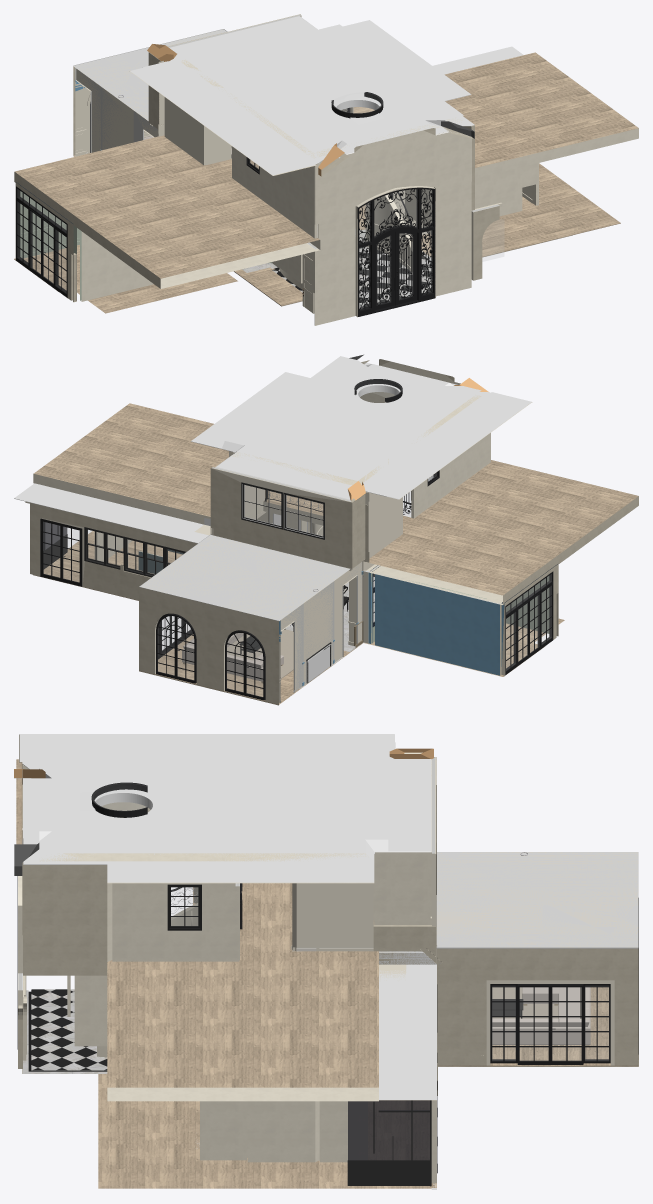
The model's file is family-room-4cccb738b7e5.glb.
The picture shows the model from 3 angles, top to bottom: view 1: azimuth 30°, elevation 25°; view 2: azimuth 150°, elevation 25°; view 3: azimuth 270°, elevation 25°; orthographic projection. The views are drawn at different scales.
Parts seen in each view (by area): view 1: family-room-look-2575515a05775d9e, family-room-look-e8793759323e04f0, family-room-look-9d91b47435c6fb33, family-room-look-34525a54e63b733b, family-room-look-3b0077416469e01b, family-room-look-d5a4a1b5d3594c04, family-room-look-5f56640b372ec5ce, family-room-look-746250f96522f643, family-room-4a969f5cc1ae3dfe, family-room-look-bce662e26d5a5947, family-room-look-d999b7e09afcf2f4, family-room-9d80b152e3f2ea10 (+30 smaller); view 2: family-room-look-2575515a05775d9e, family-room-look-e8793759323e04f0, family-room-look-9d91b47435c6fb33, family-room-4a969f5cc1ae3dfe, family-room-look-b19b106fc304963c, family-room-look-245f595ae2832e16, family-room-969b861f9850351e, family-room-look-bfb9fa537cd11d1d, family-room-9d80b152e3f2ea10, family-room-look-9a0e9ee9b2a451d7, family-room-look-5f56640b372ec5ce, family-room-50d54560d247b537 (+27 smaller); view 3: family-room-look-2575515a05775d9e, family-room-look-e8793759323e04f0, family-room-look-9d91b47435c6fb33, family-room-4a969f5cc1ae3dfe, family-room-look-3b0077416469e01b, family-room-e706aa16b4547c37, family-room-look-62353aa10fc57f23, family-room-50d54560d247b537, family-room-look-c51ecd664a3b22a3, family-room-look-9a0e9ee9b2a451d7, family-room-look-5f56640b372ec5ce, family-room-look-69af8f587252f9fa (+26 smaller).
Boxes of the visible parts, left/top/right/bottom form: family-room-look-2575515a05775d9e: left=14, top=52, right=638, bottom=288; family-room-look-e8793759323e04f0: left=180, top=23, right=463, bottom=158; family-room-look-9d91b47435c6fb33: left=130, top=16, right=474, bottom=175; family-room-look-34525a54e63b733b: left=314, top=126, right=471, bottom=244; family-room-look-3b0077416469e01b: left=14, top=163, right=620, bottom=306; family-room-look-d5a4a1b5d3594c04: left=314, top=208, right=471, bottom=325; family-room-look-5f56640b372ec5ce: left=254, top=81, right=404, bottom=139; family-room-look-746250f96522f643: left=232, top=146, right=317, bottom=238; family-room-4a969f5cc1ae3dfe: left=73, top=29, right=226, bottom=120; family-room-look-bce662e26d5a5947: left=357, top=187, right=435, bottom=316; family-room-look-d999b7e09afcf2f4: left=80, top=230, right=153, bottom=301; family-room-9d80b152e3f2ea10: left=76, top=69, right=158, bottom=152; family-room-look-2575515a05775d9e: left=33, top=403, right=638, bottom=604; family-room-look-e8793759323e04f0: left=222, top=356, right=481, bottom=485; family-room-look-9d91b47435c6fb33: left=191, top=362, right=532, bottom=500; family-room-4a969f5cc1ae3dfe: left=139, top=534, right=349, bottom=621; family-room-look-b19b106fc304963c: left=375, top=573, right=501, bottom=675; family-room-look-245f595ae2832e16: left=210, top=467, right=352, bottom=568; family-room-969b861f9850351e: left=139, top=587, right=280, bottom=704; family-room-look-bfb9fa537cd11d1d: left=30, top=502, right=197, bottom=600; family-room-9d80b152e3f2ea10: left=280, top=562, right=362, bottom=691; family-room-look-9a0e9ee9b2a451d7: left=14, top=483, right=208, bottom=543; family-room-look-5f56640b372ec5ce: left=325, top=377, right=464, bottom=430; family-room-50d54560d247b537: left=139, top=534, right=348, bottom=620; family-room-look-2575515a05775d9e: left=16, top=759, right=378, bottom=1101; family-room-look-e8793759323e04f0: left=39, top=756, right=388, bottom=861; family-room-look-9d91b47435c6fb33: left=19, top=734, right=431, bottom=883; family-room-4a969f5cc1ae3dfe: left=436, top=852, right=638, bottom=948; family-room-look-3b0077416469e01b: left=98, top=920, right=436, bottom=1188; family-room-e706aa16b4547c37: left=437, top=948, right=633, bottom=1065; family-room-look-62353aa10fc57f23: left=23, top=865, right=112, bottom=975; family-room-50d54560d247b537: left=436, top=852, right=638, bottom=948; family-room-look-c51ecd664a3b22a3: left=112, top=883, right=239, bottom=961; family-room-look-9a0e9ee9b2a451d7: left=379, top=964, right=436, bottom=1100; family-room-look-5f56640b372ec5ce: left=83, top=756, right=196, bottom=825; family-room-look-69af8f587252f9fa: left=292, top=883, right=373, bottom=947.
Bounding box in the file's own units: 21.02 × 7.01 × 16.88.
Materials: 62 (12 with a texture image).
